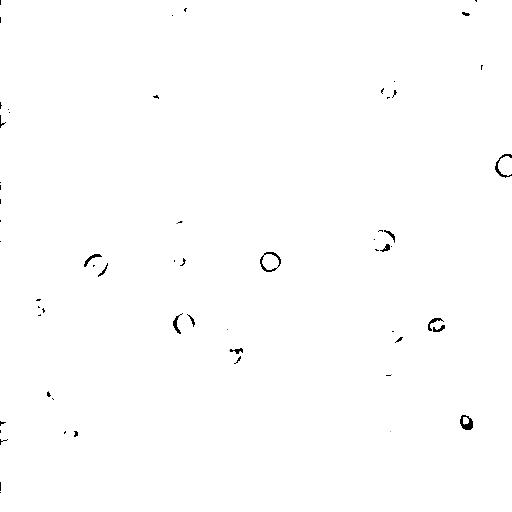micro-algae: (273, 440, 347, 511), (45, 267, 102, 327), (46, 412, 95, 454), (417, 90, 452, 120), (94, 434, 123, 469), (168, 216, 201, 245), (382, 290, 416, 318), (477, 52, 505, 84), (2, 189, 22, 231), (83, 252, 110, 280), (370, 228, 397, 255), (48, 376, 75, 402), (223, 322, 250, 348), (151, 383, 179, 408), (164, 0, 189, 24), (259, 249, 283, 274), (172, 310, 195, 336), (379, 428, 405, 450), (372, 358, 401, 377), (222, 343, 244, 368), (493, 151, 512, 179), (379, 77, 401, 101), (29, 296, 49, 320), (169, 247, 190, 269), (384, 327, 408, 346), (1, 420, 20, 443), (455, 1, 479, 17), (458, 413, 475, 433), (428, 316, 446, 334), (1, 103, 11, 127), (1, 0, 11, 20)
